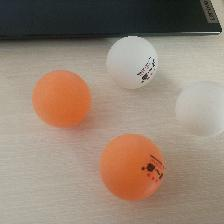WhiteBall: (106, 36, 158, 89), (174, 82, 223, 135)
YellowBall: (99, 133, 164, 200), (31, 69, 91, 128)
